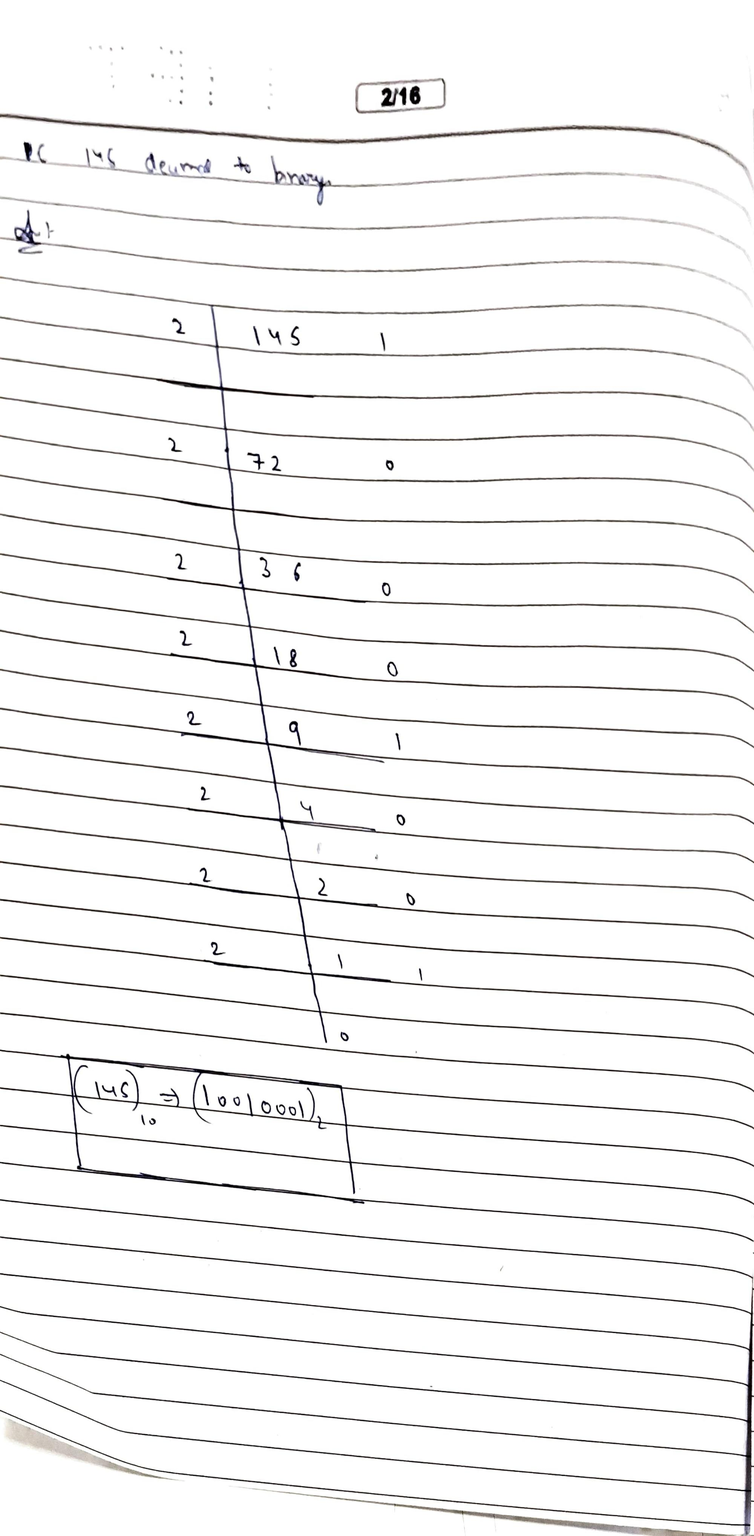cuttings: (23, 141, 33, 162)
